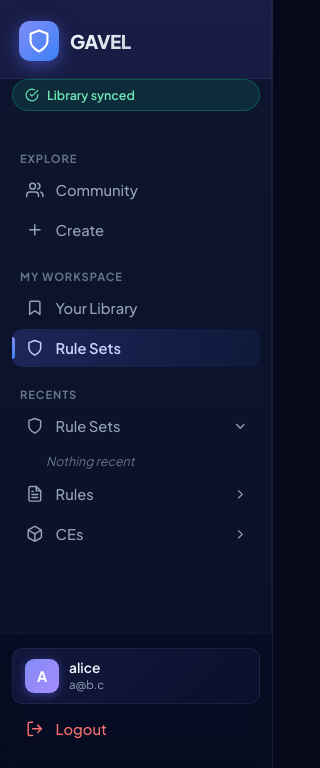
Test case: Sidebar — recents (client-side) › reveals a collapsed group only after clicking its header
The width and height of the screenshot is (320, 768).
expect the text "My Rule" is not shown: met
What coordinates should you click on to do the following:
click the text "Rules"
I would click on:
 (75, 494)
Its box is [56,485,94,503].
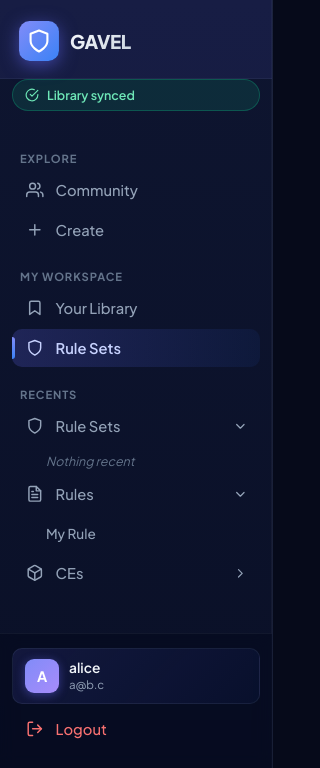
expect the text "My Rule" is shown: met, box [46,525,96,542]
